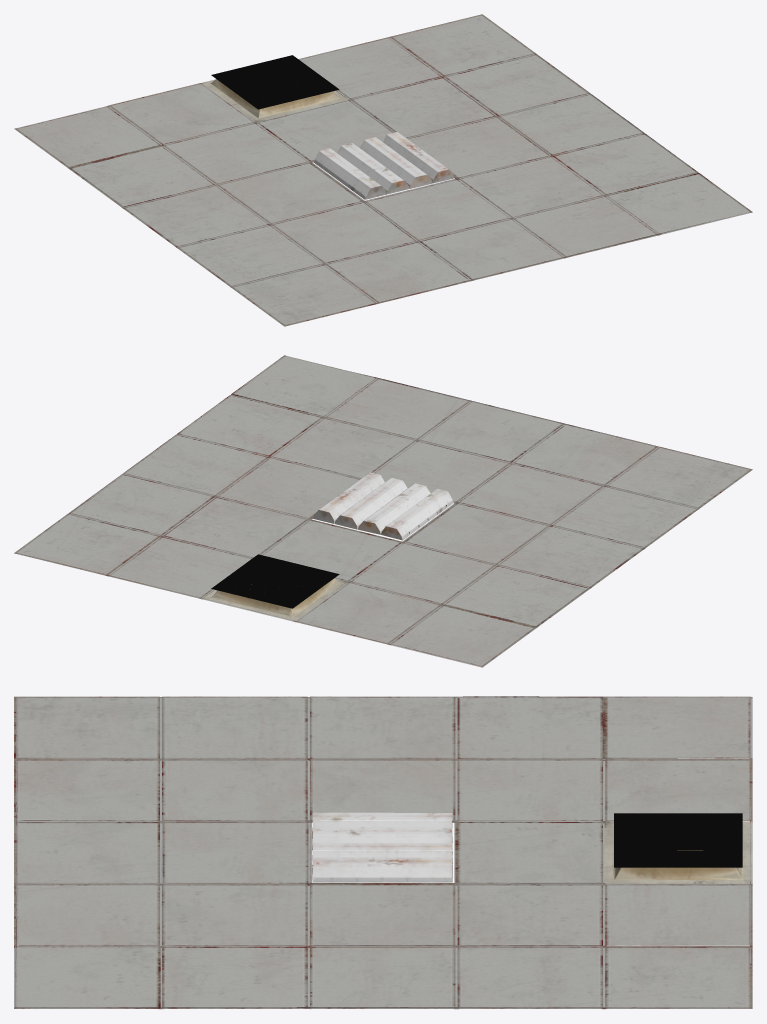
File: SM_Ceiling_Grid02.fbx
The picture shows the model from 3 angles, top to bottom: view 1: azimuth 30°, elevation 25°; view 2: azimuth 150°, elevation 25°; view 3: azimuth 270°, elevation 25°; orthographic projection. The views are drawn at different scales.
Visible parts, largest first — view 1: SM_Ceiling_Grid02_LOD0; view 2: SM_Ceiling_Grid02_LOD0; view 3: SM_Ceiling_Grid02_LOD0.
Boxes of the visible parts, x1,y1,x2,y2 form: SM_Ceiling_Grid02_LOD0: (14,14,752,326); SM_Ceiling_Grid02_LOD0: (14,355,752,667); SM_Ceiling_Grid02_LOD0: (14,696,752,1009).
Bounding box in the file's own units: 301 × 300 × 6.76.
